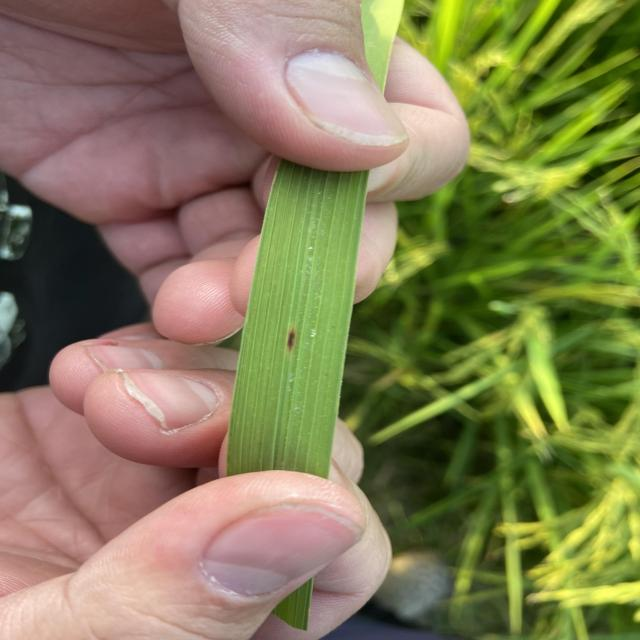Dom nau: (288, 329, 295, 351)
